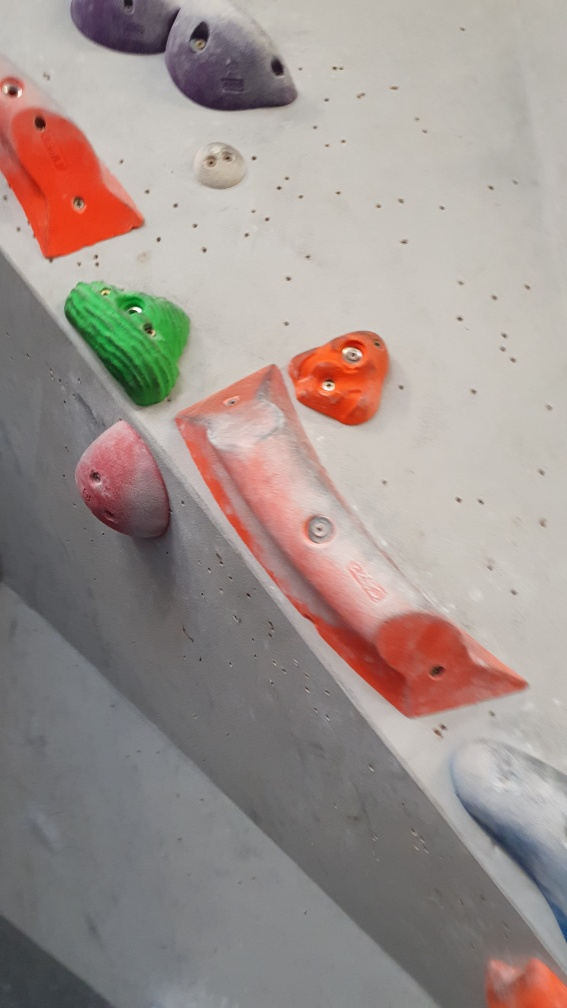Jug: (66, 272, 193, 410), (169, 1, 300, 116)
Pinch: (168, 356, 533, 720), (1, 58, 148, 261), (448, 728, 567, 939)
Sloper: (75, 411, 174, 548)
